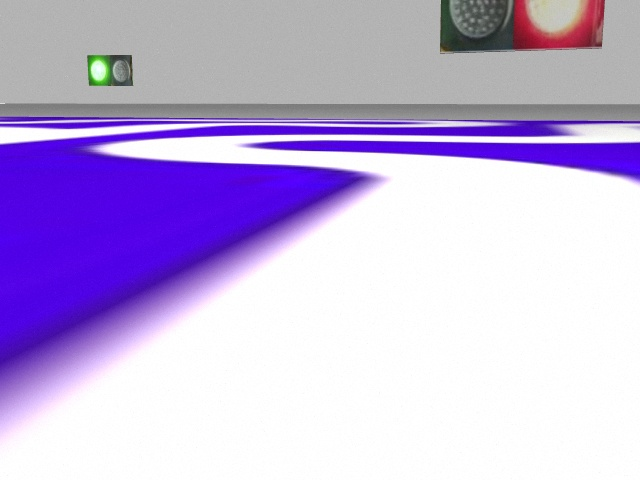red: (513, 2, 603, 47)
